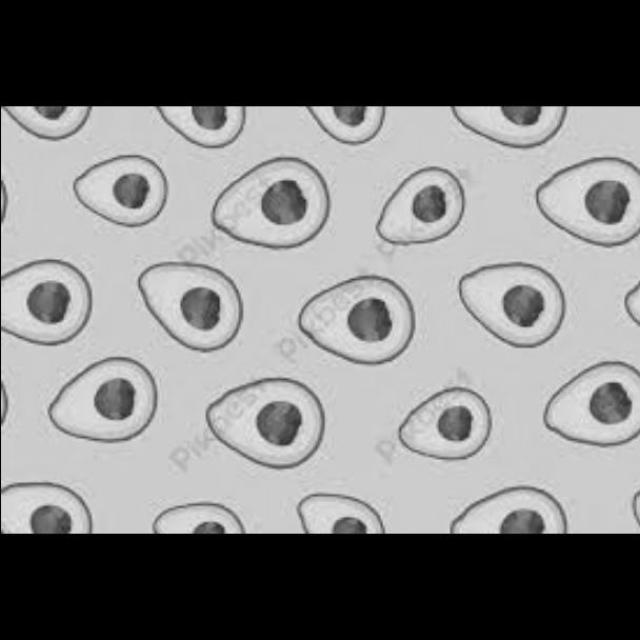avocado: (189, 139, 339, 248), (515, 124, 639, 255), (180, 368, 334, 470), (32, 353, 166, 462), (435, 240, 565, 352), (277, 265, 432, 358), (363, 380, 498, 479), (119, 255, 247, 353), (363, 160, 473, 256), (529, 358, 637, 450), (413, 472, 572, 534), (63, 149, 173, 236), (0, 256, 88, 355), (424, 108, 564, 153), (128, 108, 278, 144), (0, 486, 107, 535), (268, 492, 391, 534), (292, 107, 391, 156), (102, 503, 240, 535), (0, 107, 88, 138)
